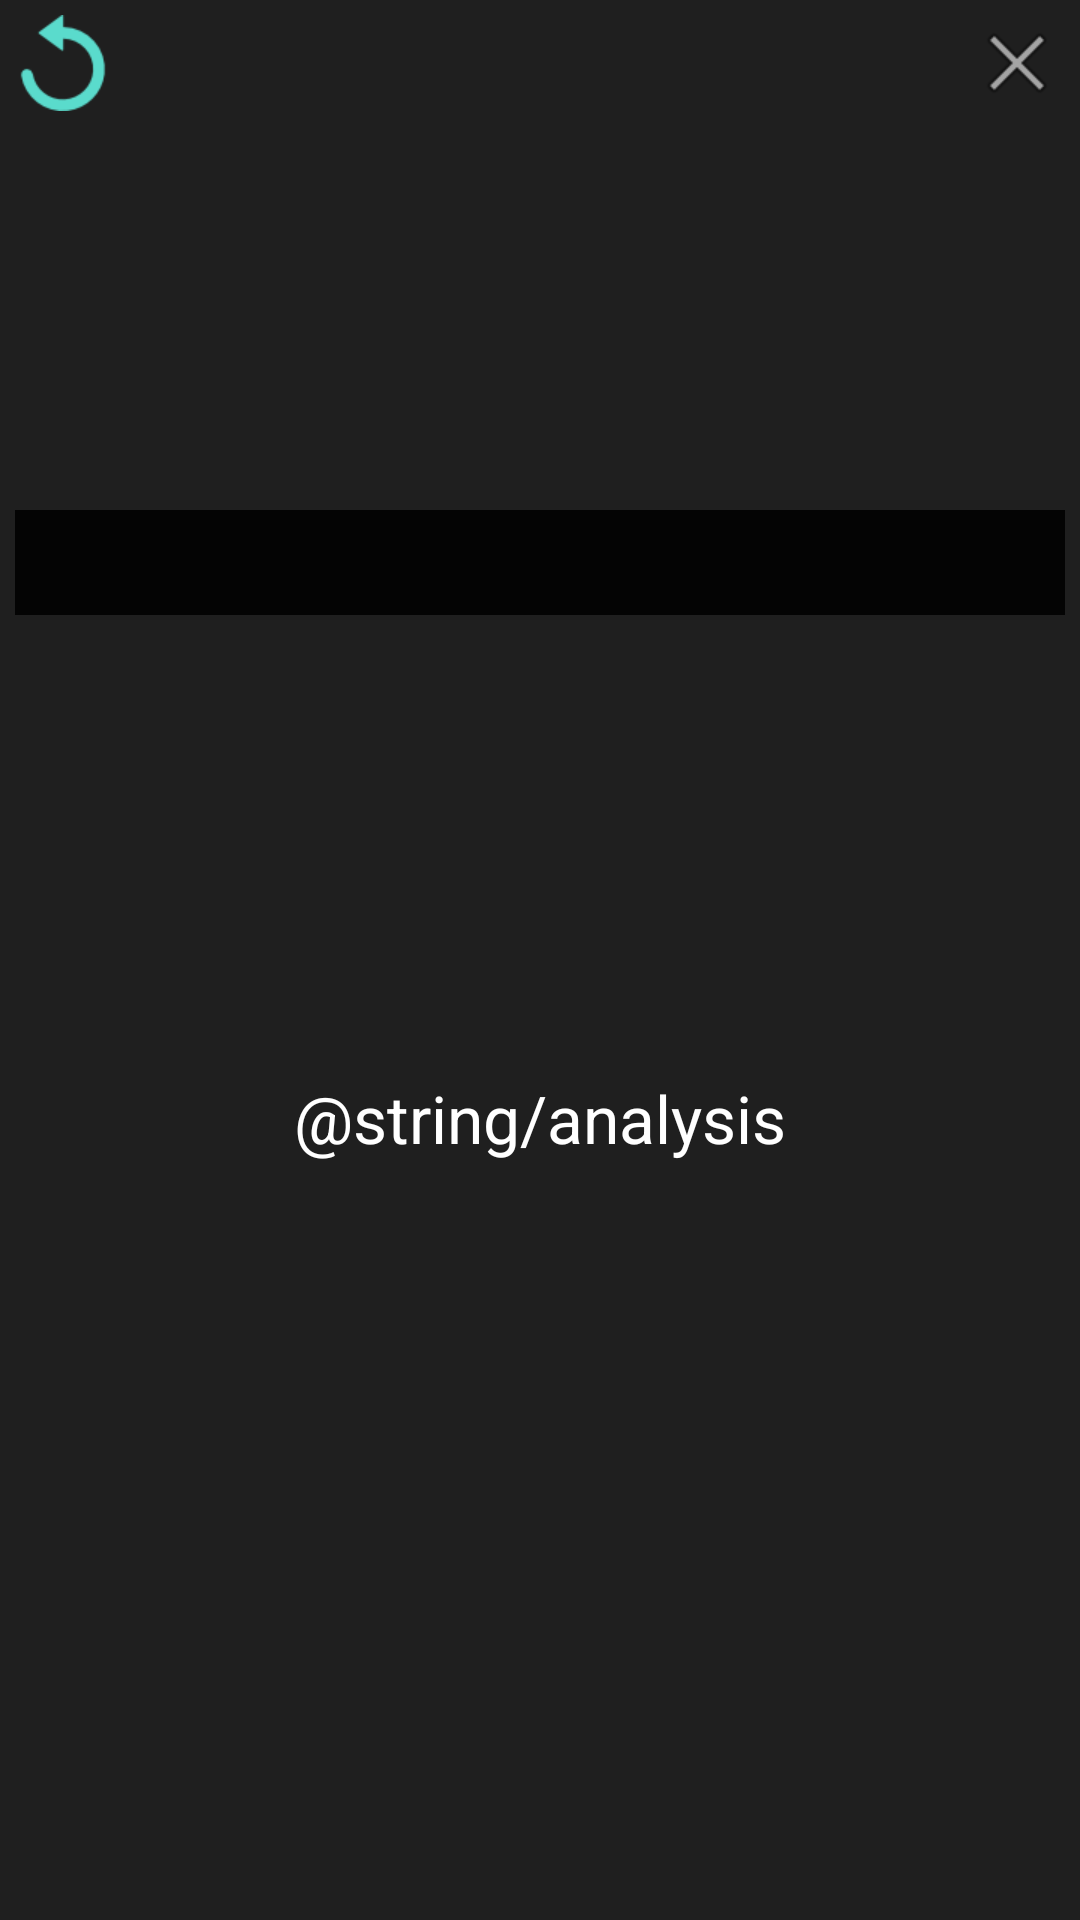

Icons on this 1080 × 1920 Android screen, each with its box as (x1, y1, x2, y2):
close clear cancel: (990, 36, 1044, 90)
reload: (21, 15, 105, 111)
